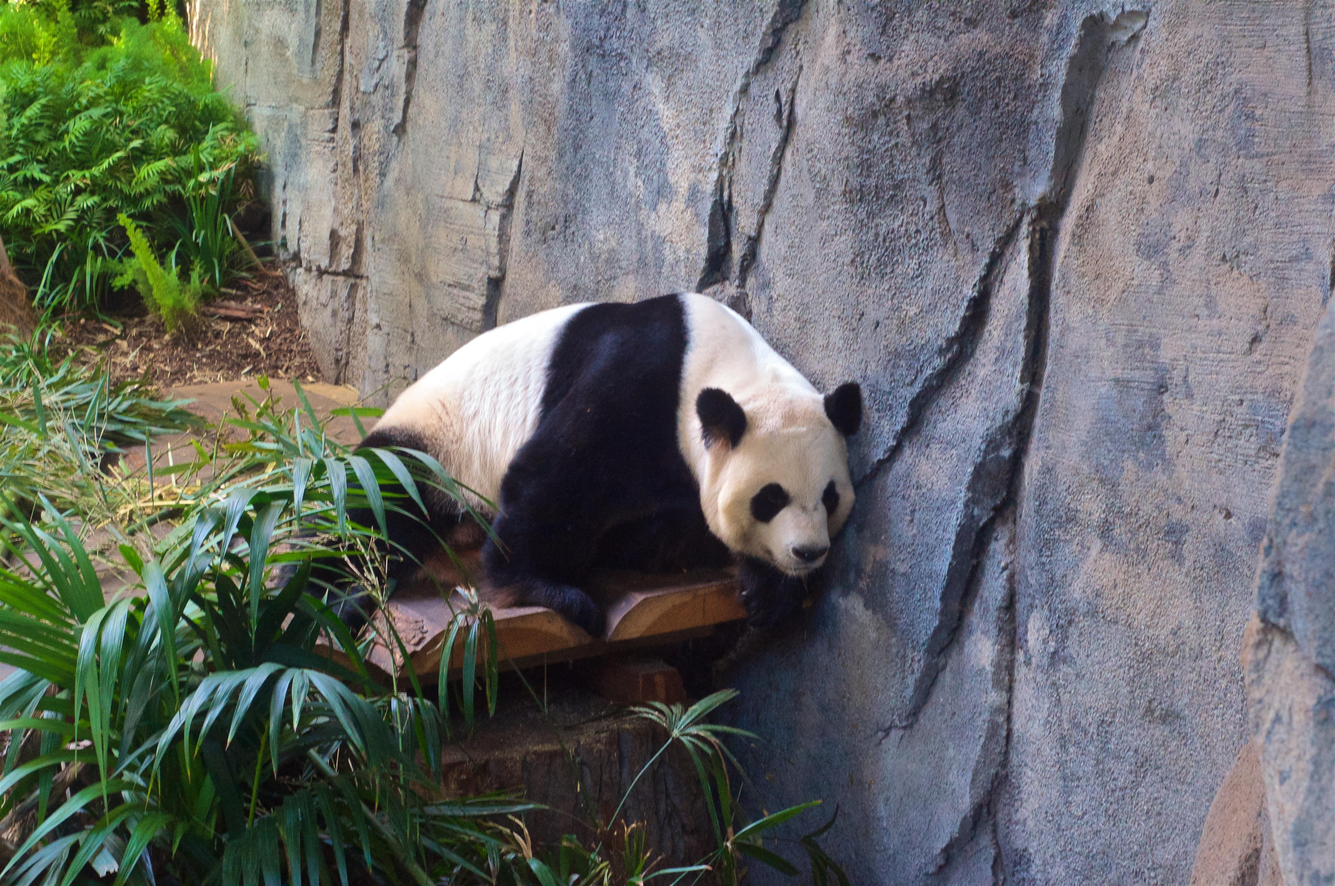panda: (297, 288, 874, 645)
